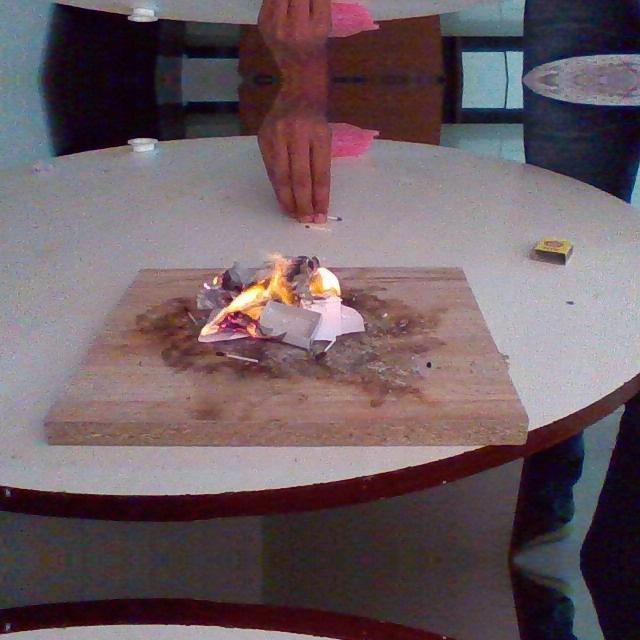smoke: (198, 256, 294, 336), (306, 259, 346, 305)
